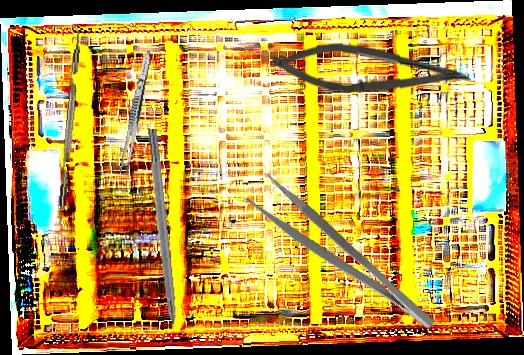Chopper: (49, 23, 85, 207)
Dressing Forceps: (244, 170, 439, 348), (118, 50, 154, 176)
Hook Surgical: (144, 128, 182, 351)
Micro Scissor: (270, 42, 473, 95)
